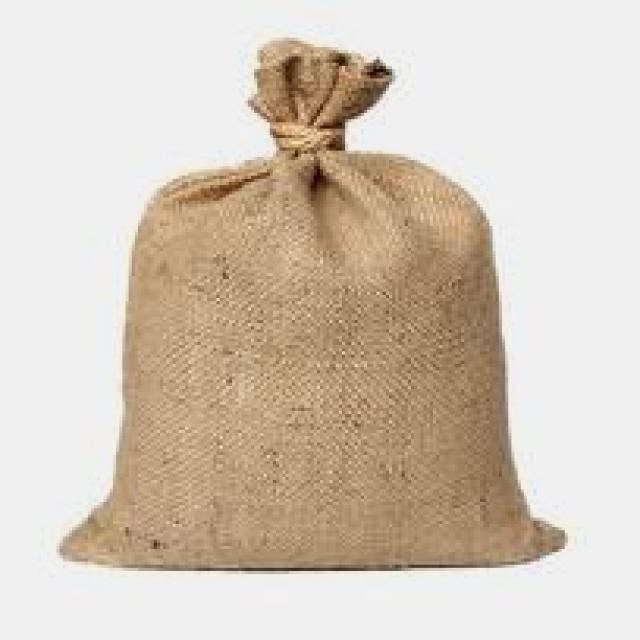gunny_bag: (50, 38, 571, 573)
